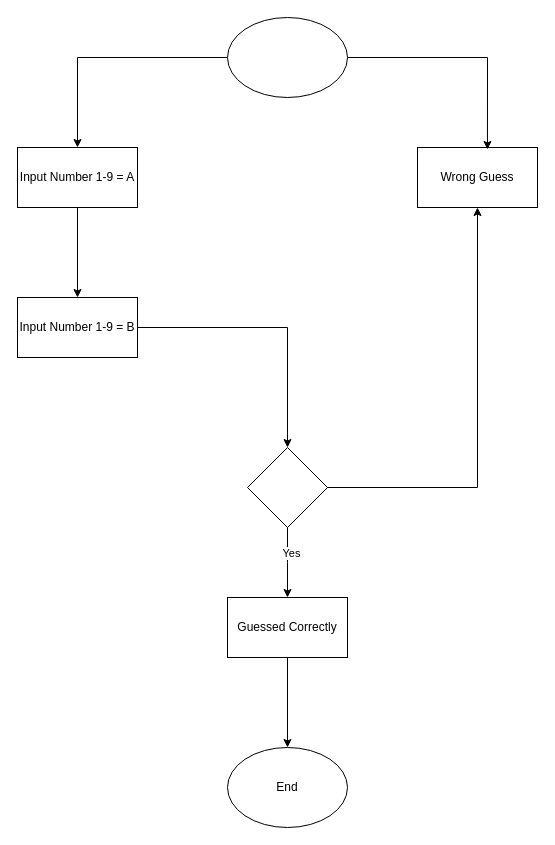
The diagram is 555 pixels wide and 845 high, and some of its shapes have lost their labels. Each missing label, with the centre of its shape:
"Does Number A match Number B?" belongs at (287,487).
"Start" belongs at (287,57).
